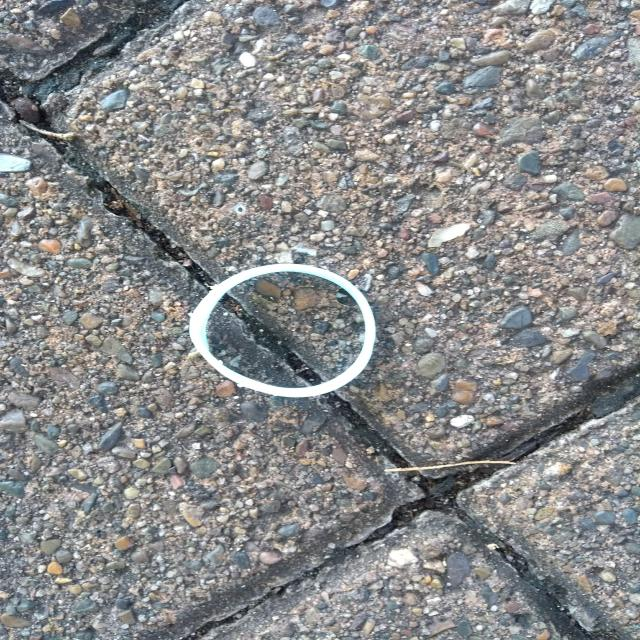litter: (186, 262, 377, 399)
